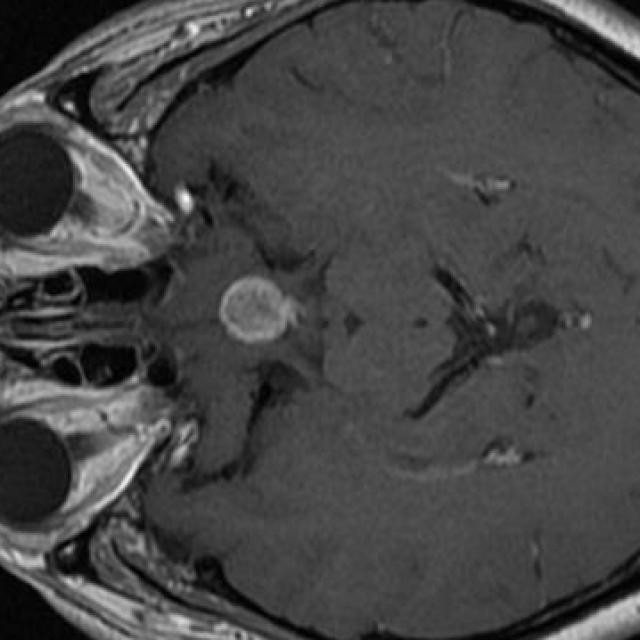pituitary: (217, 276, 298, 342)
